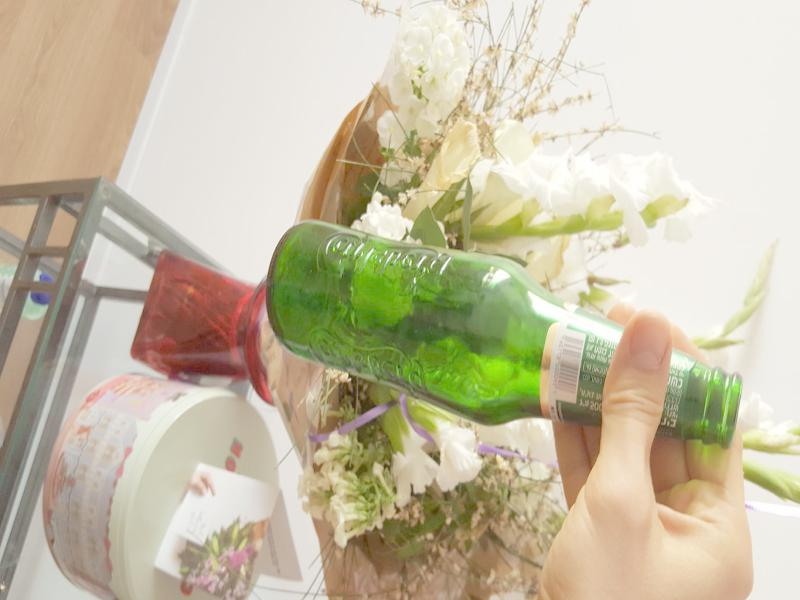Beer: (266, 220, 742, 426)
